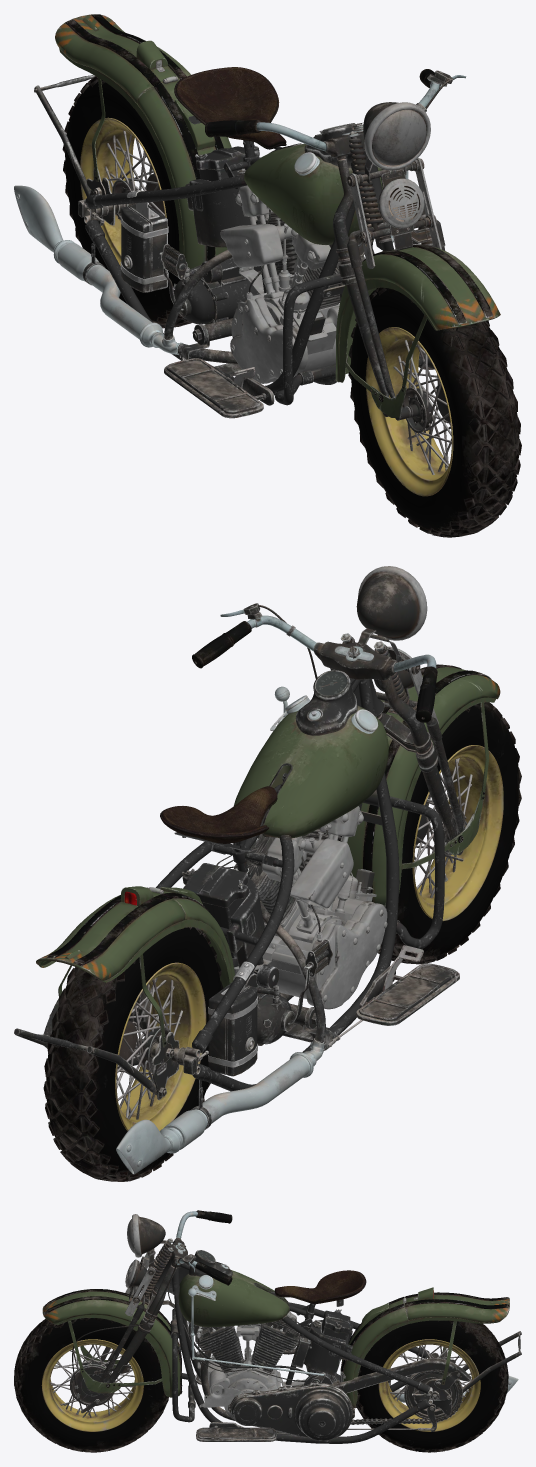
Rendered from wlbobber.glb.
3 views of the same model, one above another, from view 1: azimuth 30°, elevation 25°; view 2: azimuth 150°, elevation 25°; view 3: azimuth 270°, elevation 25° (orthographic). The views are drawn at different scales.
Parts seen in each view (by area): view 1: Plane.019, Plane.017, Gas_Tank.003, Cylinder.118, Cylinder.222, Plane, Cylinder.123, Cylinder.122, Plane.023, Cube.019, Echaust.003, Cylinder.072 (+38 smaller); view 2: Plane.017, Gas_Tank.003, Plane.019, Cylinder.118, Cylinder.072, Cylinder.222, Cylinder.122, Plane.023, Headlight.003, Echaust.003, Cube.019, NurbsPath.008 (+30 smaller); view 3: Plane.019, Plane.017, Circle.001, Gas_Tank.003, Cylinder.118, Cylinder.222, NurbsPath.008, Cylinder.072, Cylinder.122, Plane, Plane.059, Cube.019 (+38 smaller).
Part boxes in pixels (x1,y1,x2,y2): Plane.019: (348, 287, 521, 537); Plane.017: (62, 76, 192, 328); Gas_Tank.003: (244, 143, 382, 244); Cylinder.118: (365, 327, 453, 496); Cylinder.222: (335, 247, 500, 382); Plane: (176, 67, 286, 147); Cylinder.123: (137, 79, 231, 278); Cylinder.122: (55, 14, 190, 102); Plane.023: (230, 297, 307, 383); Cube.019: (164, 352, 434, 418); Echaust.003: (53, 240, 164, 347); Cylinder.072: (80, 117, 166, 265); Plane.017: (43, 927, 223, 1181); Gas_Tank.003: (234, 705, 388, 838); Plane.019: (377, 702, 521, 964); Cylinder.118: (412, 745, 503, 921); Cylinder.072: (115, 962, 206, 1130); Cylinder.222: (347, 667, 500, 906); Cylinder.122: (36, 891, 185, 980); Plane.023: (306, 901, 387, 1009); Headlight.003: (356, 566, 427, 640); Echaust.003: (160, 1051, 316, 1153); Cube.019: (356, 963, 459, 1025); NurbsPath.008: (128, 773, 399, 1091); Plane.019: (14, 1318, 169, 1452); Plane.017: (356, 1320, 508, 1452); Circle.001: (231, 1385, 352, 1440); Gas_Tank.003: (178, 1270, 289, 1327); Cylinder.118: (41, 1339, 143, 1431); Cylinder.222: (42, 1291, 180, 1397); NurbsPath.008: (174, 1294, 419, 1443); Cylinder.072: (378, 1339, 480, 1431); Cylinder.122: (405, 1294, 509, 1322); Plane: (275, 1270, 365, 1303); Plane.059: (331, 1358, 471, 1393); Cube.019: (196, 1374, 276, 1441).
Bounding box in the file's own units: 0.7222 × 1.15 × 2.26.
9 materials, 8 textured.
